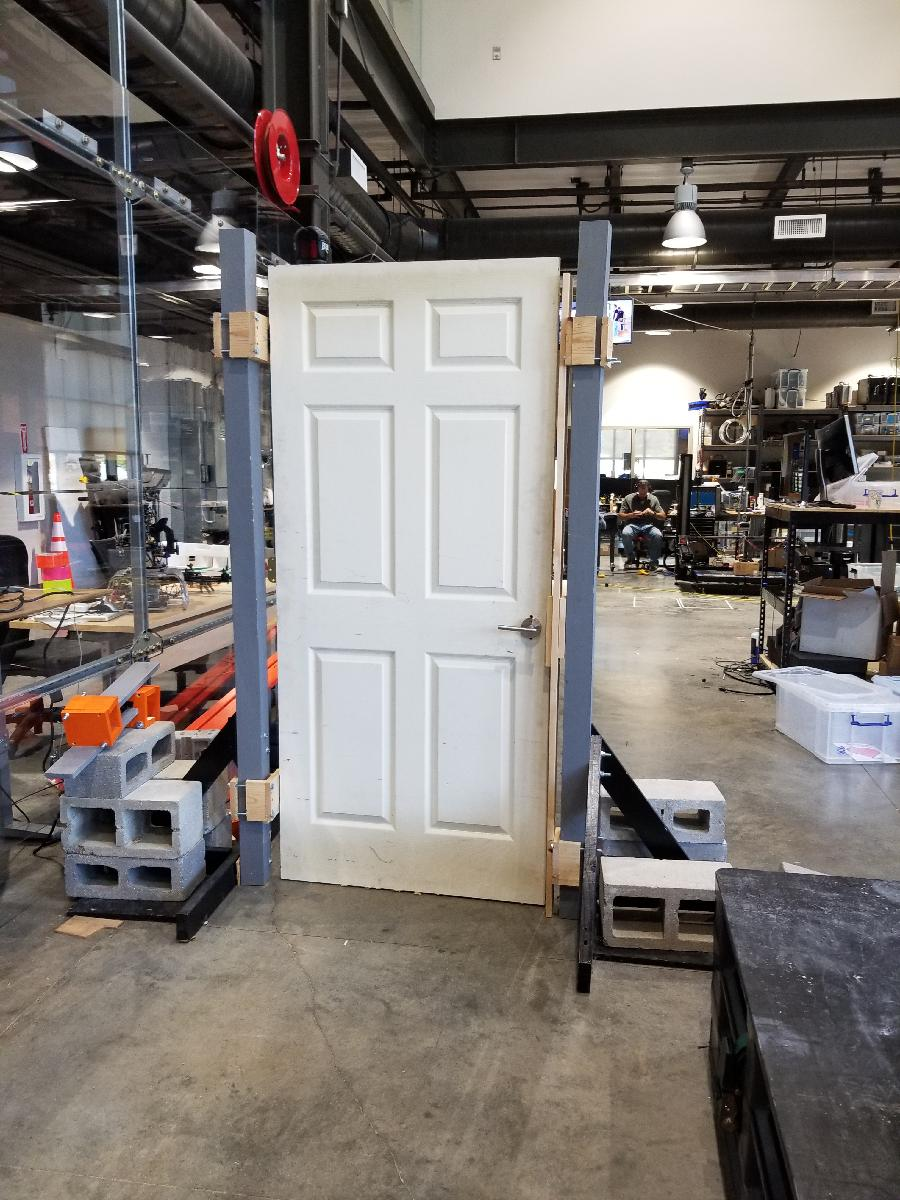door: (262, 252, 564, 912)
doorHandle: (493, 610, 542, 646)
